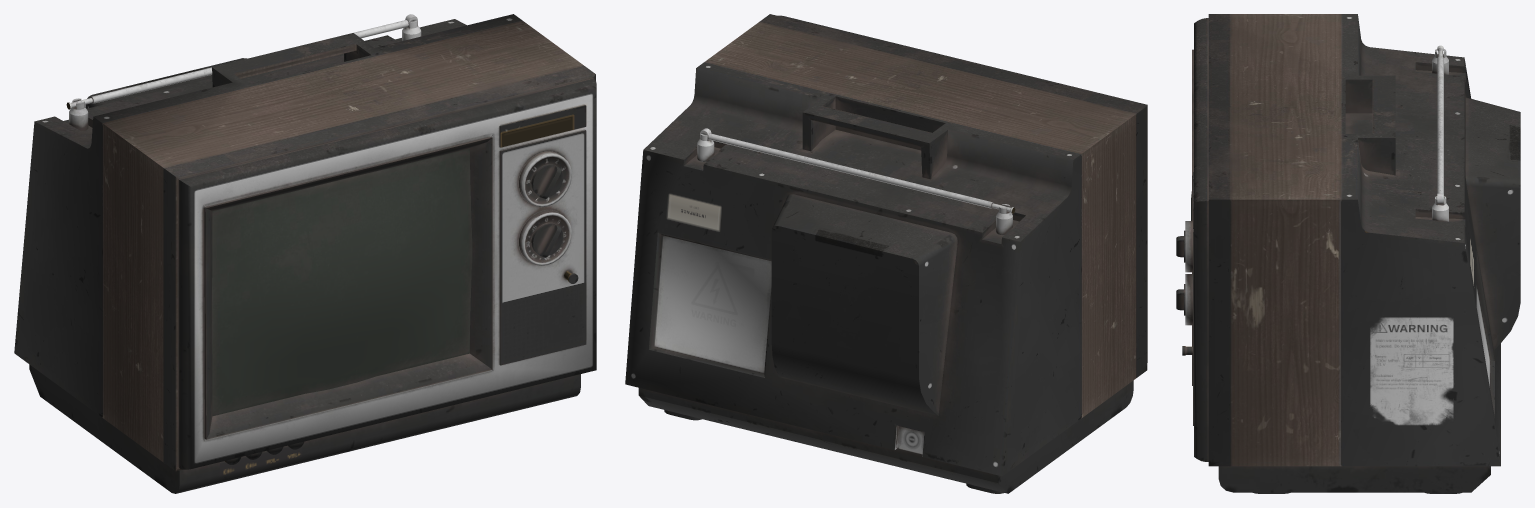
The model's file is television-01.glb.
The picture shows the model from 3 angles, left to right: view 1: azimuth 30°, elevation 25°; view 2: azimuth 150°, elevation 25°; view 3: azimuth 270°, elevation 25°; orthographic projection. The views are drawn at different scales.
Visible parts, largest first — view 1: Television_01; view 2: Television_01; view 3: Television_01.
Part boxes in pixels (left/top/right/bottom): Television_01: left=14, top=14, right=596, bottom=493; Television_01: left=625, top=14, right=1147, bottom=493; Television_01: left=1176, top=14, right=1520, bottom=493.
Size of the model in its own units: 0.6 by 0.4568 by 0.4708.
1 material, 1 textured.
